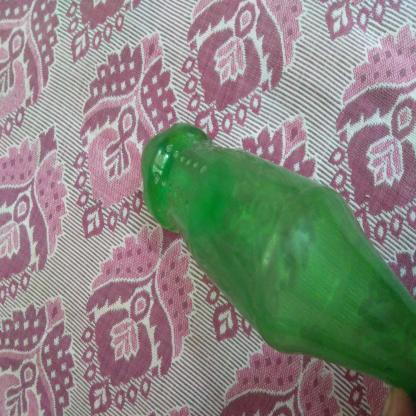bottle: (13, 186, 225, 416)
